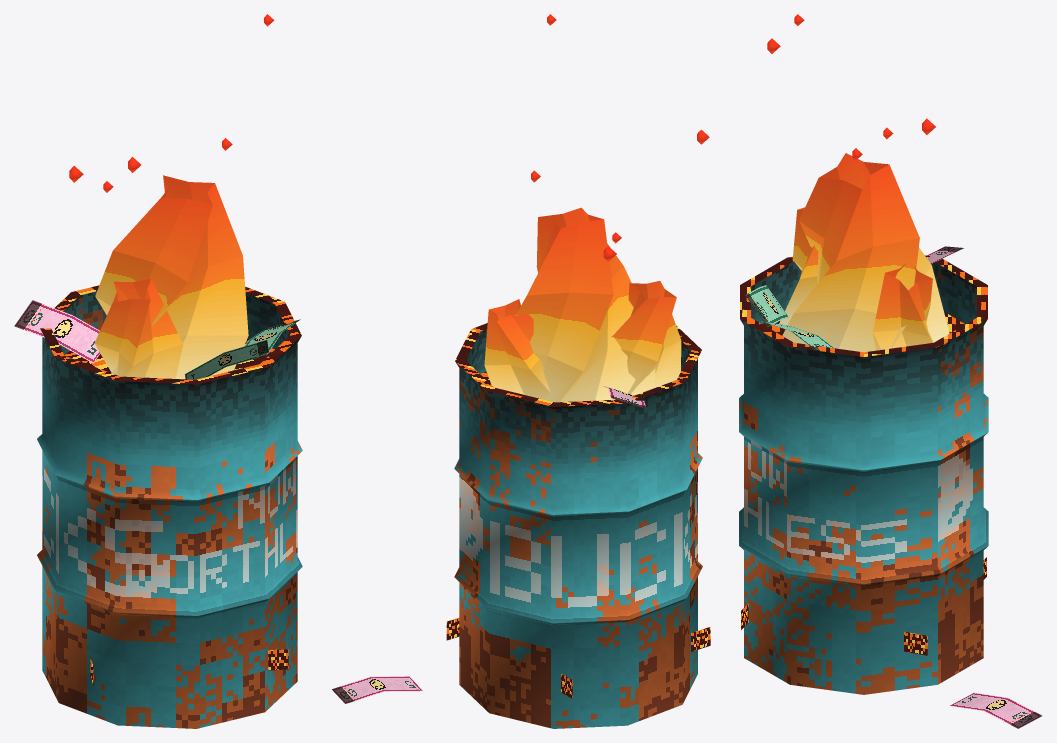
Rendered from s_firebarrel.glb.
The picture shows the model from 3 angles, left to right: view 1: azimuth 30°, elevation 25°; view 2: azimuth 150°, elevation 25°; view 3: azimuth 270°, elevation 25°; orthographic projection. The views are drawn at different scales.
Visible parts, largest first — view 1: s_firebarrel_mesh; view 2: s_firebarrel_mesh; view 3: s_firebarrel_mesh.
Boxes of the visible parts, x1,y1,x2,y2 form: s_firebarrel_mesh: (14,14,302,728); s_firebarrel_mesh: (332,14,710,728); s_firebarrel_mesh: (739,14,1042,728).
Size of what is drawn, in the model's own units: 0.7754 by 1.65 by 0.6897.
3 materials, 3 textured.
